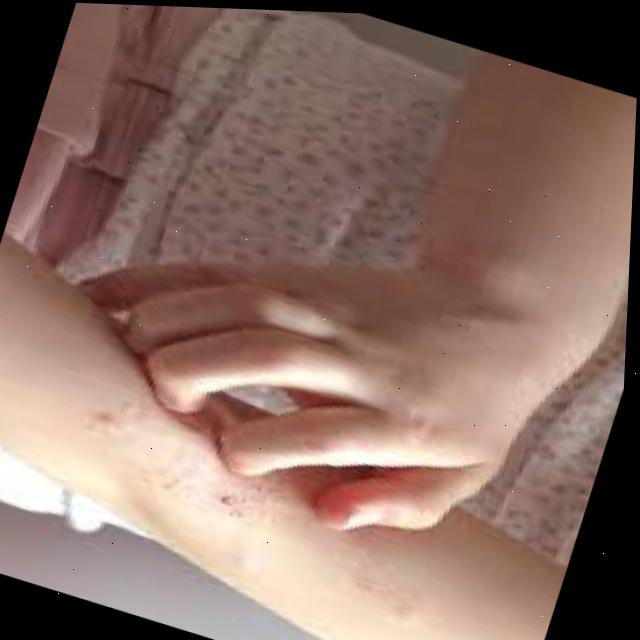Eczema: (93, 418, 403, 621)
